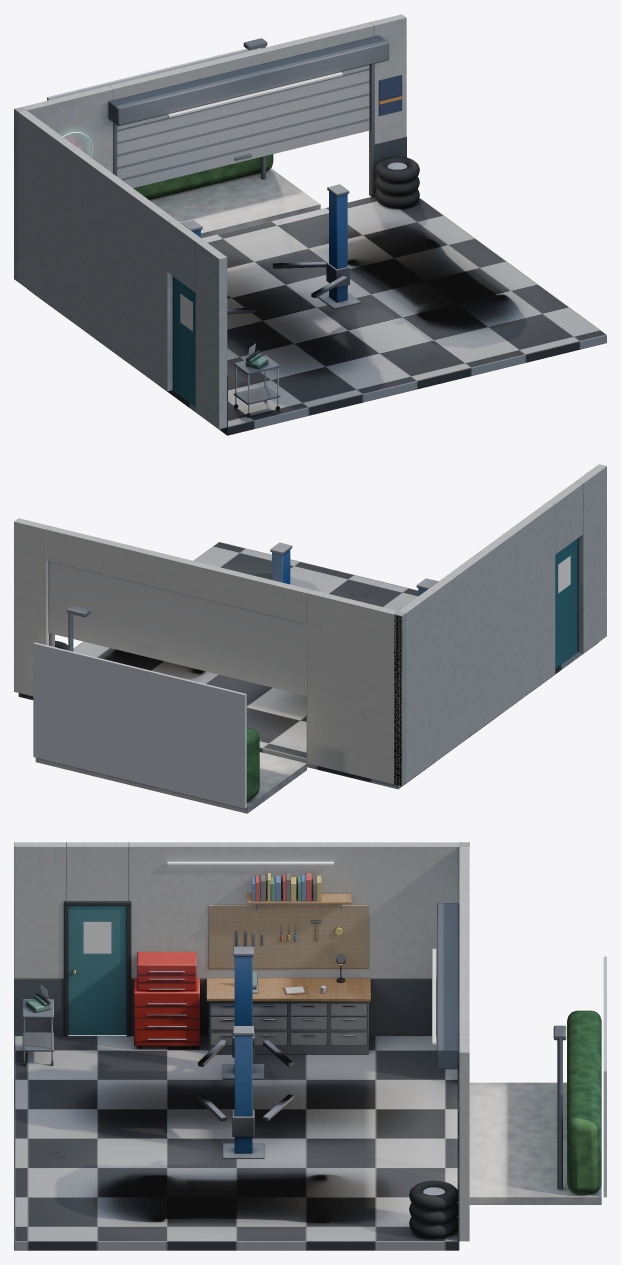
The model's file is garage.glb.
The picture shows the model from 3 angles, top to bottom: view 1: azimuth 30°, elevation 25°; view 2: azimuth 150°, elevation 25°; view 3: azimuth 270°, elevation 25°; orthographic projection. The views are drawn at different scales.
Parts seen in each view (by area): view 1: static, window, lift, door, tyres, typewriter; view 2: static, window, door, lift; view 3: static, door, lift, chest, window, tyres, bookshelf, typewriter.
Boxes of the visible parts, x1,y1,x2,y2 form: static: (14,14,606,435); window: (108,35,388,196); lift: (181,184,360,314); door: (173,276,195,406); tyres: (374,156,419,208); typewriter: (233,343,280,417); static: (14,464,606,813); window: (48,561,306,760); door: (555,538,578,668); lift: (270,542,438,595); static: (14,842,606,1250); door: (64,901,130,1036); lift: (198,946,293,1158); chest: (134,952,199,1048); window: (437,903,459,1218); tyres: (409,1180,458,1238); bookshelf: (247,873,351,910); typewriter: (22,985,53,1065).
Bounding box in the file's own units: 7.15 × 3.15 × 8.53.
1 material, 1 textured.
